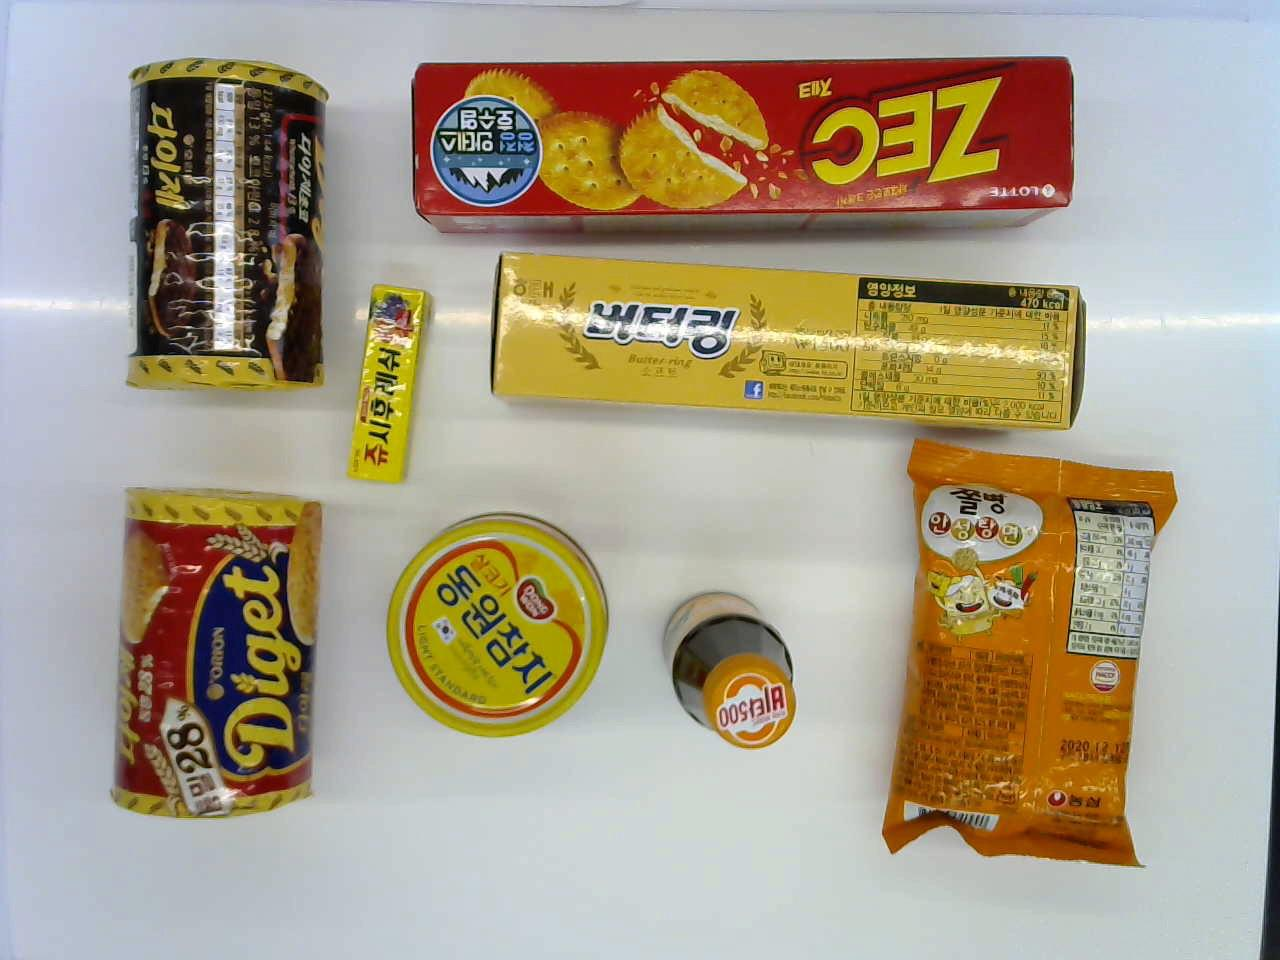buttering: (466, 241, 1091, 441)
diget_choco: (129, 52, 348, 402)
diget_ori: (110, 481, 329, 832)
jjolbyung_noodle: (874, 443, 1180, 880)
juicyfresh: (342, 272, 438, 493)
tuna: (380, 504, 606, 745)
vita500: (653, 578, 799, 754)
zec: (381, 36, 1096, 237)
